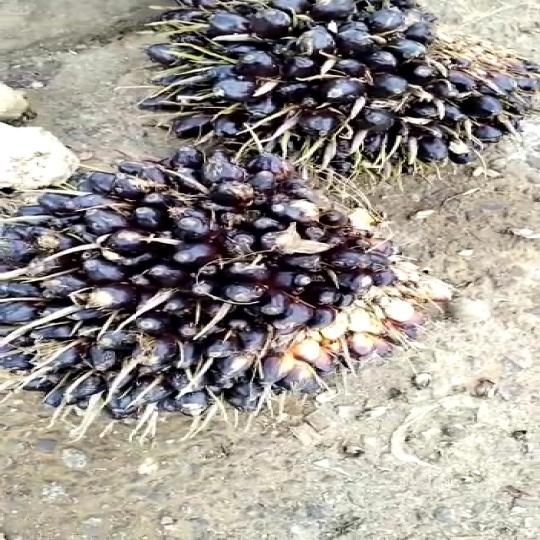mentah: (0, 138, 457, 442), (130, 0, 540, 177)
